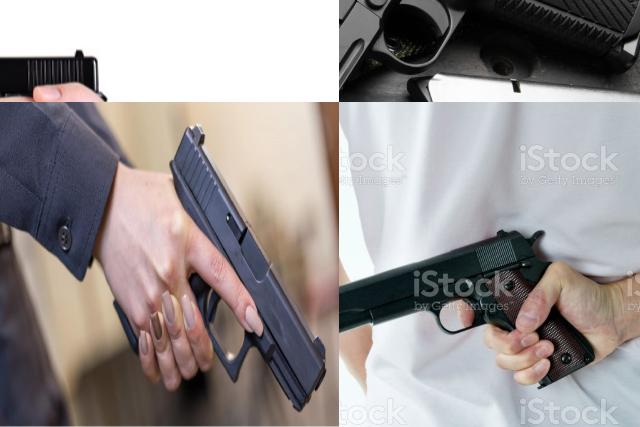handgun: (111, 123, 329, 417), (339, 225, 598, 390), (339, 0, 640, 102), (0, 45, 166, 102)
